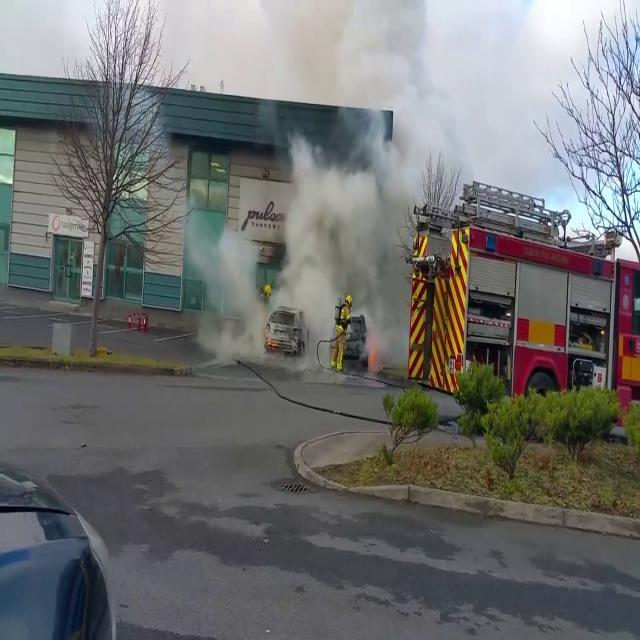Smoke: (262, 1, 427, 336), (181, 201, 270, 360)
